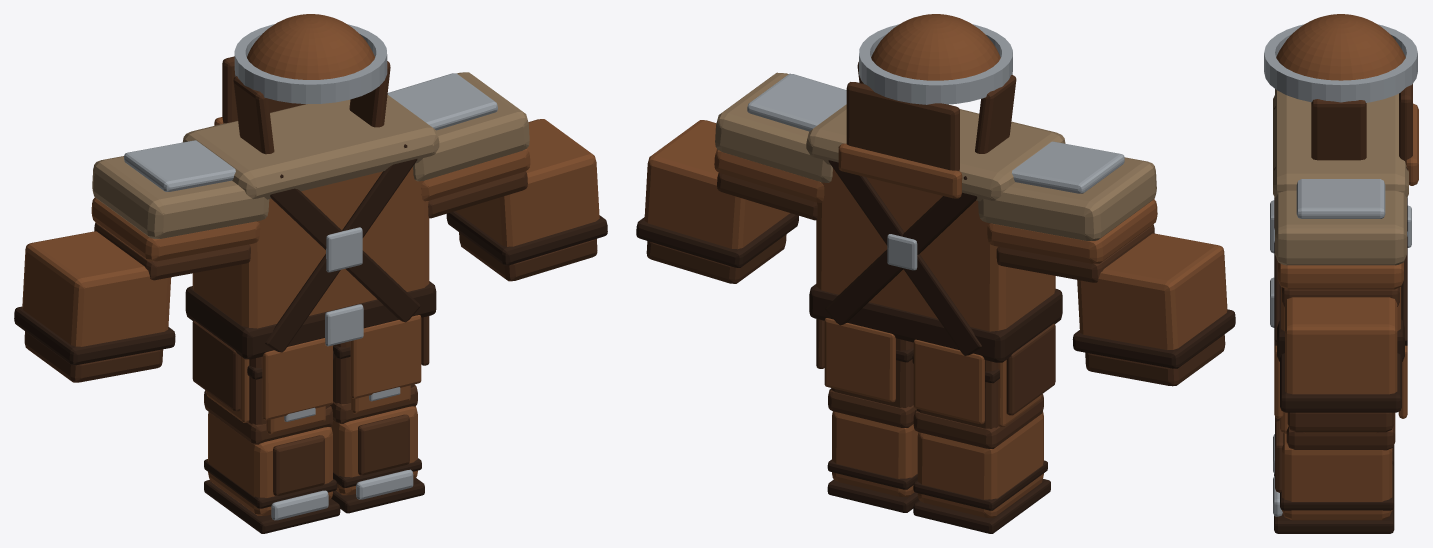
File: WarhideArmorSet.ready.glb
The picture shows the model from 3 angles, left to right: view 1: azimuth 30°, elevation 25°; view 2: azimuth 150°, elevation 25°; view 3: azimuth 270°, elevation 25°; orthographic projection.
Visible parts, largest first — view 1: Chestplate, RightLowerArm, RightUpperArm, Helmet, LeftLowerArm, LeftUpperArm, RightBoots, LeftBoots, RightLeggings, LeftLeggings; view 2: Chestplate, Helmet, RightLowerArm, RightUpperArm, LeftLowerArm, RightBoots, LeftUpperArm, LeftBoots, RightLeggings, LeftLeggings; view 3: Helmet, LeftLowerArm, LeftUpperArm, LeftBoots, Chestplate, LeftLeggings.
Part boxes in pixels (x1=…): Chestplate: x1=182, y1=95, x2=439, y2=420; RightLowerArm: x1=14, y1=231, x2=175, y2=382; RightUpperArm: x1=91, y1=140, x2=269, y2=280; Helmet: x1=214, y1=14, x2=390, y2=154; LeftLowerArm: x1=446, y1=119, x2=607, y2=281; LeftUpperArm: x1=387, y1=72, x2=530, y2=218; RightBoots: x1=204, y1=390, x2=340, y2=533; LeftBoots: x1=330, y1=385, x2=424, y2=513; RightLeggings: x1=206, y1=350, x2=334, y2=434; LeftLeggings: x1=333, y1=341, x2=414, y2=413; Chestplate: x1=806, y1=104, x2=1065, y2=424; Helmet: x1=838, y1=14, x2=1016, y2=198; RightLowerArm: x1=1072, y1=233, x2=1235, y2=386; RightUpperArm: x1=978, y1=141, x2=1157, y2=282; LeftLowerArm: x1=636, y1=120, x2=798, y2=283; RightBoots: x1=913, y1=394, x2=1050, y2=533; LeftUpperArm: x1=714, y1=72, x2=846, y2=220; LeftBoots: x1=827, y1=388, x2=919, y2=512; RightLeggings: x1=912, y1=354, x2=1041, y2=428; LeftLeggings: x1=831, y1=338, x2=913, y2=407; Helmet: x1=1264, y1=14, x2=1418, y2=185; LeftLowerArm: x1=1280, y1=297, x2=1401, y2=432; LeftUpperArm: x1=1275, y1=179, x2=1406, y2=306; LeftBoots: x1=1273, y1=412, x2=1395, y2=533; Chestplate: x1=1270, y1=90, x2=1411, y2=418; LeftLeggings: x1=1280, y1=412, x2=1378, y2=433.
Size of the model in its own units: 6.34 by 5.31 by 1.57.
1 material, 1 textured.
